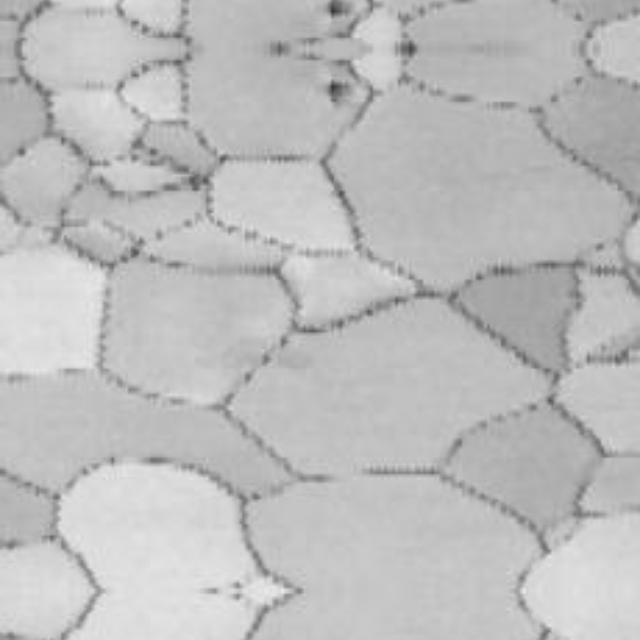good_void: (324, 78, 353, 110), (324, 0, 353, 21), (593, 243, 606, 255)
